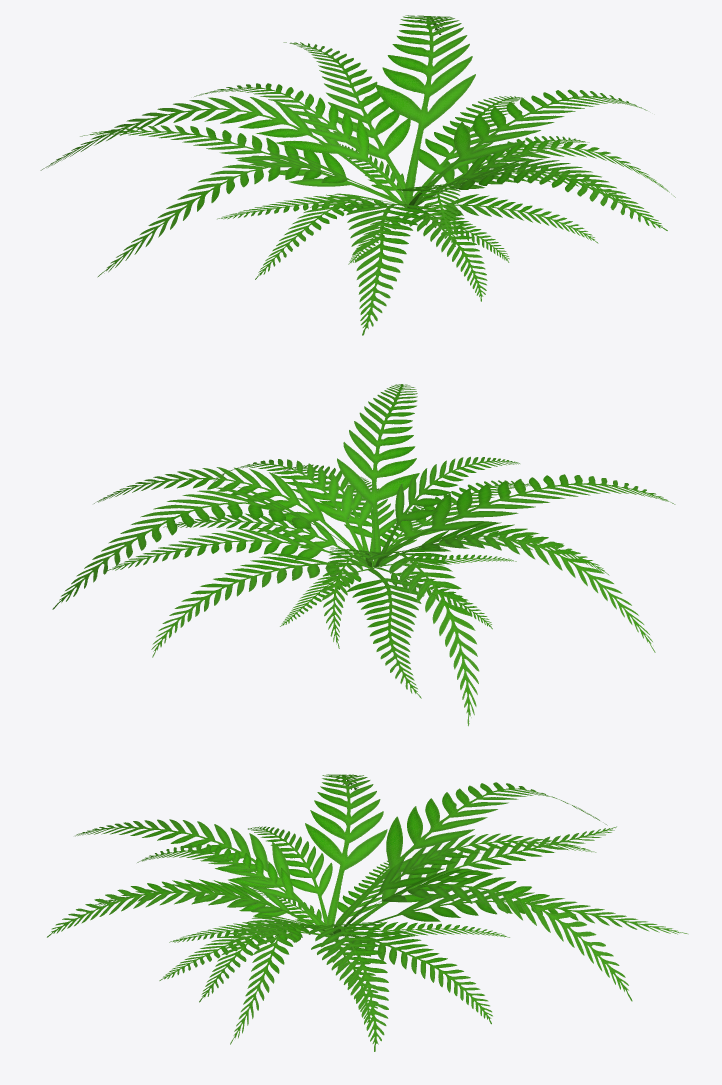
The model's file is fern01.fbx.
3 renders of one model, top to bottom at view 1: azimuth 30°, elevation 25°; view 2: azimuth 150°, elevation 25°; view 3: azimuth 270°, elevation 25°, orthographic. The views are drawn at different scales.
Visible parts, largest first — view 1: Plane#2; view 2: Plane#2; view 3: Plane#2.
Boxes of the visible parts, x1,y1,x2,y2 form: Plane#2: (40,15,675,335); Plane#2: (52,384,675,726); Plane#2: (47,774,688,1051).
Bounding box in the file's own units: 2.82 × 0.4807 × 2.84.
Materials: 1 (1 with a texture image).
